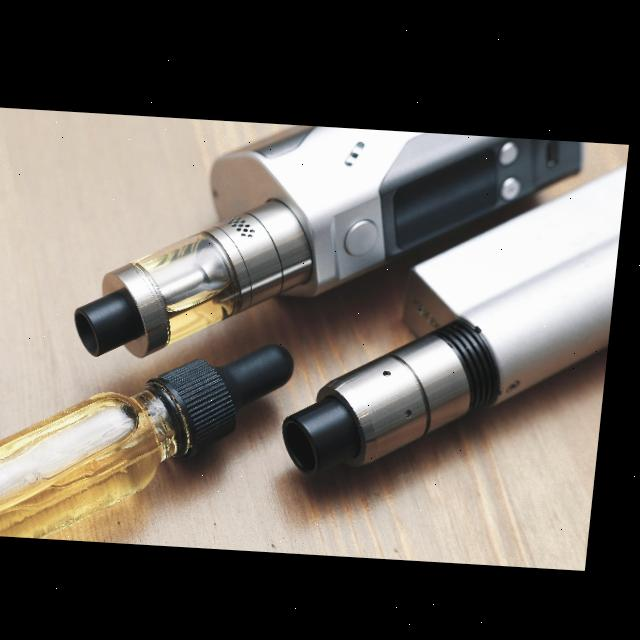vape: (77, 121, 592, 363), (287, 149, 630, 478)
